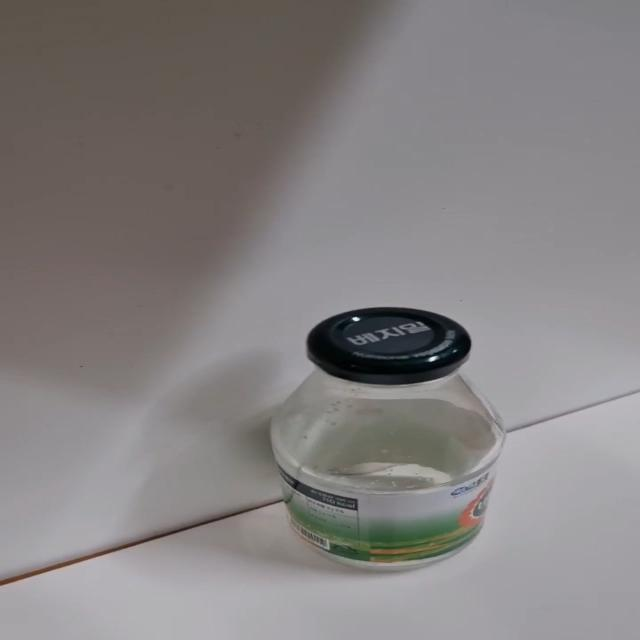Glass: (260, 298, 520, 567)
